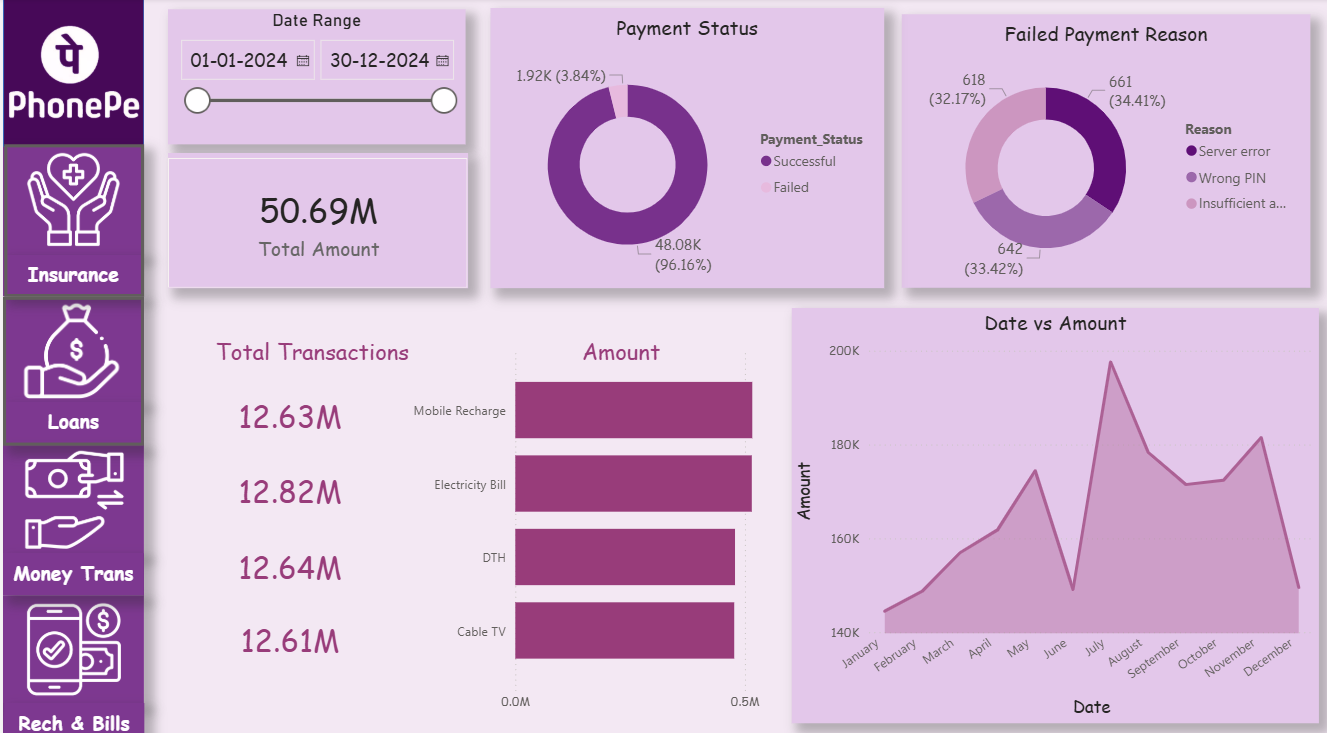

The page's visual inventory and layout, read from the dashboard file:
{"tool":"powerbi","page":{"name":"Recharge and Bills","canvas":[1280,720],"ordinal":4},"visuals":[{"type":"shape","box":[0,0,136.3,144],"z":0},{"type":"shape","box":[0,144,136.3,144],"z":1000},{"type":"shape","box":[0,288.1,136.3,144],"z":2000},{"type":"shape","box":[0,431.9,136.3,144.8],"z":3000},{"type":"shape","box":[0,576.2,136.3,144],"z":4000},{"type":"image","box":[0,0,136.3,149.6],"z":5000},{"type":"image","box":[0,288.3,136.3,101.3],"z":6000},{"type":"image","box":[0,141.2,136.3,106.2],"z":7000},{"type":"image","box":[1.2,431.9,135.1,105],"z":7000,"group":"g2"},{"type":"textbox","box":[0,247.3,136.3,39.8],"z":8000},{"type":"image","box":[0,576.7,136.3,103.8],"z":8000,"group":"g1"},{"type":"textbox","box":[0,389.7,136.3,42.2],"z":9000},{"type":"group","id":"g1","title":"Group 1","box":[0,576.7,136.3,141.2],"z":10000},{"type":"group","id":"g2","title":"Group 2","box":[0,431.9,136.3,144.8],"z":11000},{"type":"slicer","title":"Date Range","fields":{"Values":["Recharge_Bills.Date"]},"box":[158.8,11.2,287.5,130],"z":12000},{"type":"textbox","box":[0,535.7,136.3,41],"z":12000,"group":"g2"},{"type":"donutChart","title":"Failed Payment Reason","fields":{"Category":["Recharge_Bills.Reason"],"Y":["CountNonNull(Recharge_Bills.Reason)"]},"box":[867.4,15.7,394.5,264.2],"z":13000},{"type":"textbox","box":[1.2,680.5,135.1,37.4],"z":13000,"group":"g1"},{"type":"actionButton","box":[0,288.8,136.2,143.8],"z":14000},{"type":"actionButton","box":[1.2,141.2,135,147.5],"z":15000},{"type":"cardVisual","title":"Total Transaction Amount","fields":{"Data":["Sum(Recharge_Bills.Amount)"]},"box":[159.3,149.6,289.5,130.3],"z":16000},{"type":"donutChart","title":"Payment Status","fields":{"Category":["Recharge_Bills.Payment_Status"],"Y":["CountNonNull(Recharge_Bills.Payment_Status)"]},"box":[470.5,9.7,380,270.2],"z":17000},{"type":"areaChart","title":"Date vs Amount","fields":{"Category":["Recharge_Bills.Date.Variation.Date Hierarchy.Month"],"Y":["Sum(Recharge_Bills.Amount)"]},"box":[761.3,299.2,509.1,400.5],"z":18000},{"type":"clusteredBarChart","title":"Date vs Amount","fields":{"Category":["Recharge_Bills.Recharge_Type"],"Y":["Sum(Recharge_Bills.Amount)"]},"box":[383.6,329.4,396.9,369.2],"z":19000},{"type":"card","fields":{"Values":["Sum(Recharge_Bills.Amount)"]},"box":[171.3,377.6,212.3,54.3],"z":20000},{"type":"card","fields":{"Values":["Sum(Recharge_Bills.Amount)"]},"box":[171.3,448.8,212.3,55.5],"z":21000},{"type":"card","fields":{"Values":["Sum(Recharge_Bills.Amount)"]},"box":[171.3,522.4,212.3,55.5],"z":22000},{"type":"card","fields":{"Values":["Sum(Recharge_Bills.Amount)"]},"box":[171.3,593.6,212.3,54.3],"z":23000},{"type":"textbox","box":[446.4,320.9,300.4,39.8],"z":24000},{"type":"textbox","box":[148.4,320.9,300.4,48.3],"z":25000}]}

Visuals, with their boxes in screenshot pixels (x1, y1, x2, y2), scaled from the page's 1280x720 canvas onto the 1327x733 screenshot:
shape: [0,0,141,147]
shape: [0,147,141,293]
shape: [0,293,141,440]
shape: [0,440,141,587]
shape: [0,587,141,732]
image: [0,0,141,152]
image: [0,294,141,397]
image: [0,144,141,252]
image: [1,440,141,547]
textbox: [0,252,141,292]
image: [0,587,141,693]
textbox: [0,397,141,440]
"Group 1" group: [0,587,141,731]
"Group 2" group: [0,440,141,587]
"Date Range" slicer: [165,11,463,144]
textbox: [0,545,141,587]
"Failed Payment Reason" donutChart: [899,16,1308,285]
textbox: [1,693,141,731]
actionButton: [0,294,141,440]
actionButton: [1,144,141,294]
"Total Transaction Amount" cardVisual: [165,152,465,285]
"Payment Status" donutChart: [488,10,882,285]
"Date vs Amount" areaChart: [789,305,1317,712]
"Date vs Amount" clusteredBarChart: [398,335,809,711]
card - Sum(Recharge_Bills.Amount): [178,384,398,440]
card - Sum(Recharge_Bills.Amount): [178,457,398,513]
card - Sum(Recharge_Bills.Amount): [178,532,398,588]
card - Sum(Recharge_Bills.Amount): [178,604,398,660]
textbox: [463,327,774,367]
textbox: [154,327,465,376]
